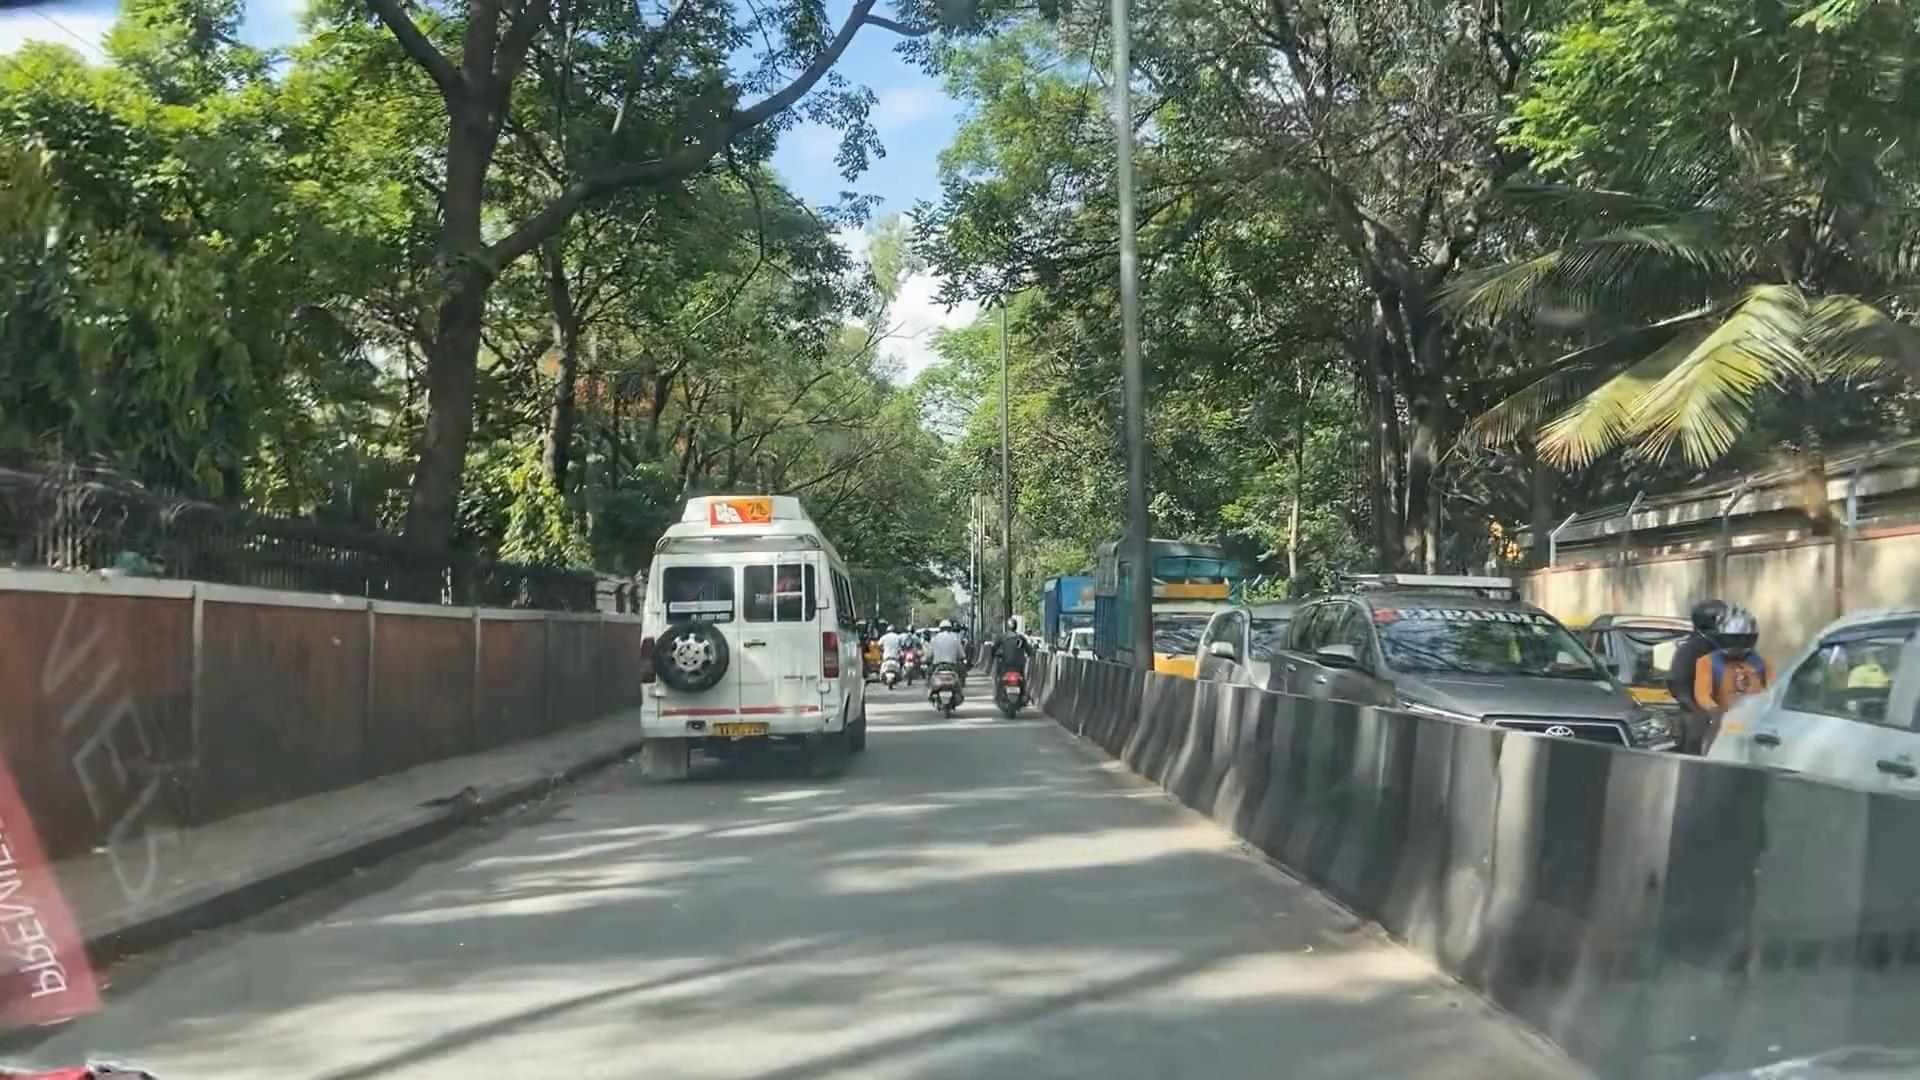HMV: (626, 467, 855, 777)
LMV: (923, 607, 972, 716), (996, 620, 1034, 721)
